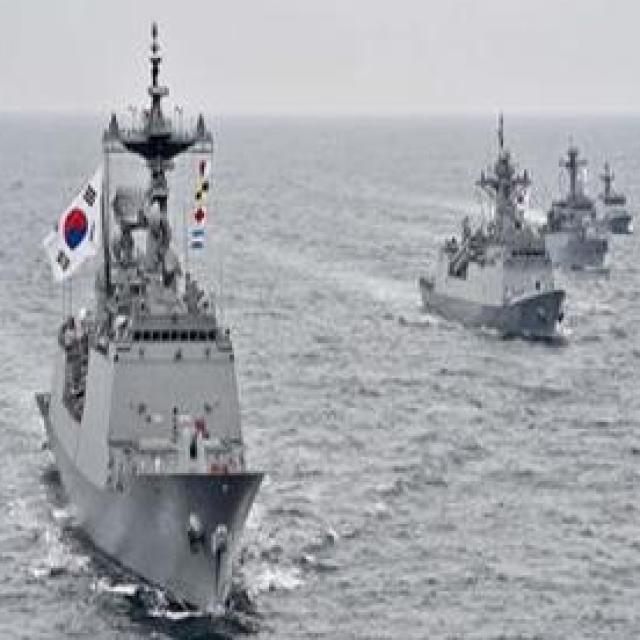navalvessels: (28, 23, 274, 625), (408, 107, 574, 338), (532, 139, 606, 277), (588, 160, 632, 233)
